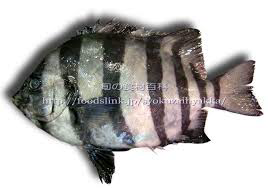azi: (22, 23, 249, 169)
